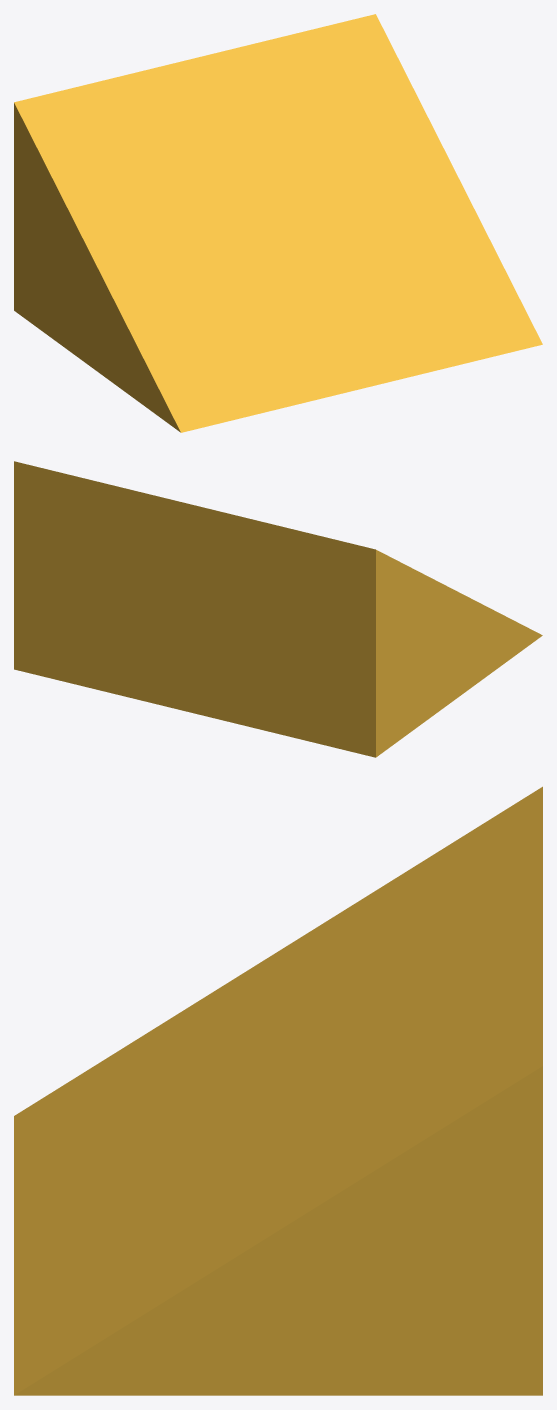
Rendered from Cheese.fbx.
3 views of the same model, one above another, from view 1: azimuth 30°, elevation 25°; view 2: azimuth 150°, elevation 25°; view 3: azimuth 270°, elevation 25° (orthographic). The views are drawn at different scales.
Visible parts, largest first — view 1: Cheese; view 2: Cheese; view 3: Cheese.
Part boxes in pixels (x1,y1,x2,y2): Cheese: (14,14,542,432); Cheese: (14,461,542,757); Cheese: (14,786,542,1395).
Size of the model in its own units: 0.1 by 0.055 by 0.08.
